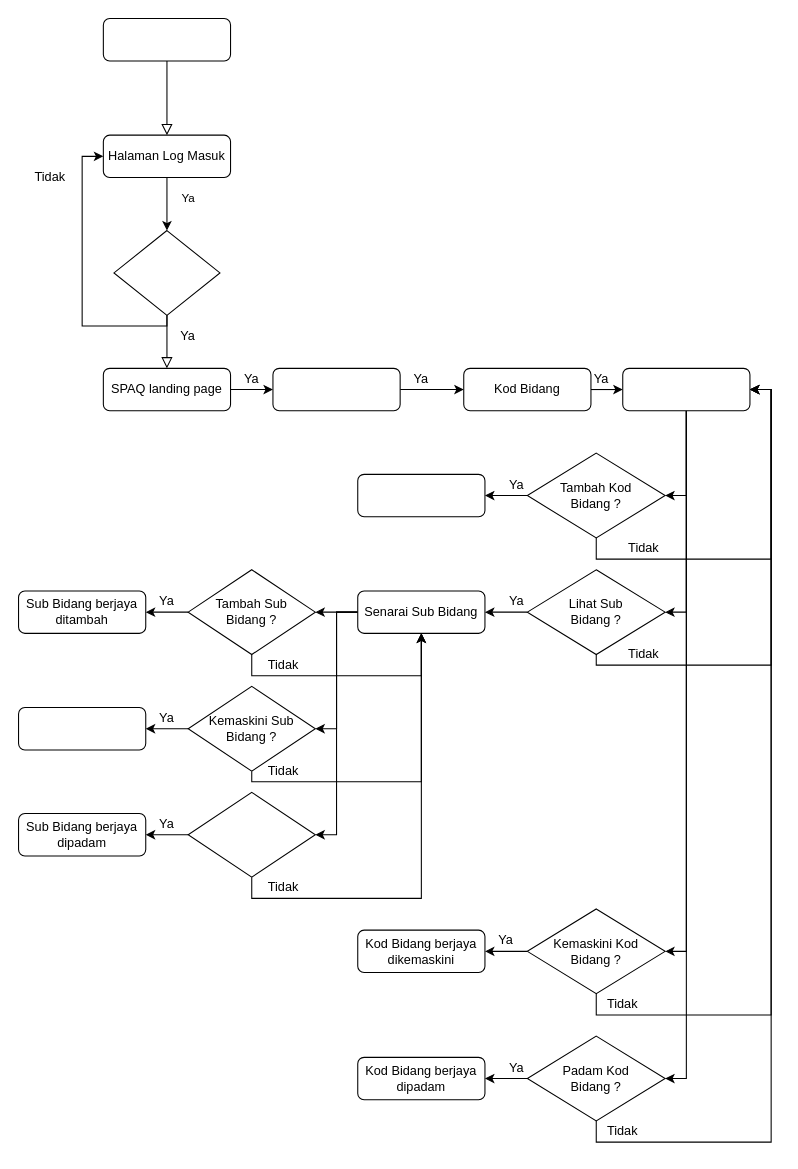
This 798x1169 diagram has some shape labels left out. The centre of each missing label's shape, as x and y in pixels:
Kod Bidang berjaya ditambah: [421,495]
Laman Pentadbir: [336,389]
Log masuk?: [166,272]
Padam Sub Bidang ?: [251,834]
Pentadbir: [166,39]
Senarai Kod Bidang: [686,389]
Sub Bidang berjaya dikemaskini: [81,728]
